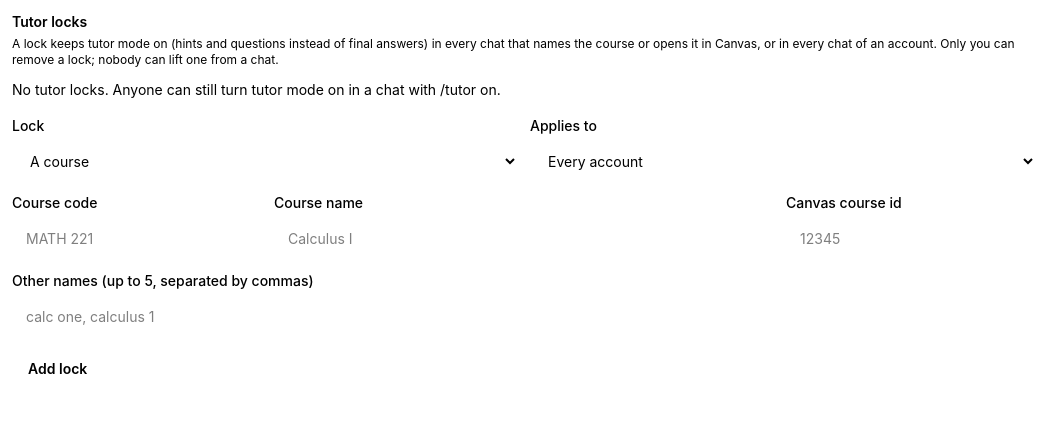
Scenario: TutorLocks › shows the server's reason when a lock is refused, and keeps what was typed
This screenshot has width=1048, height=423.
Expected: the text "No tutor locks" is shown, [12, 81, 501, 98]
Type "math" into the field labelled "Course code".
click(137, 239); type("math")  # box [12, 219, 262, 259]
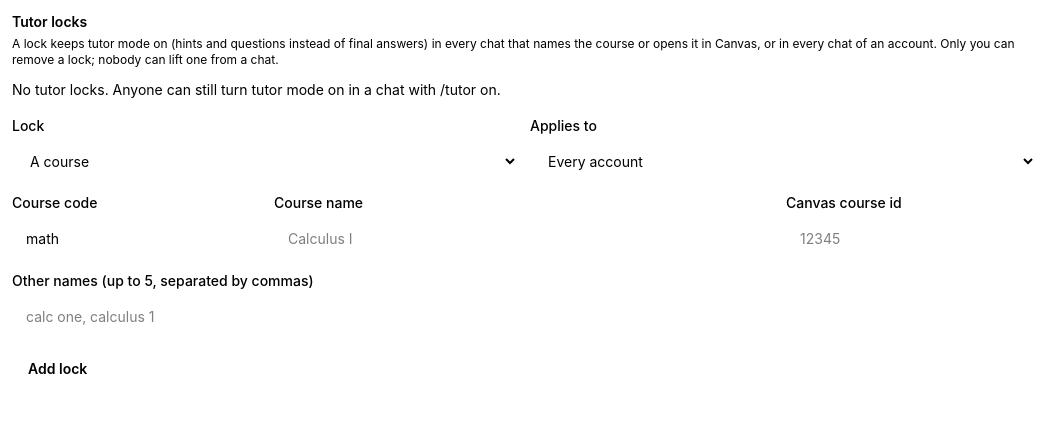
Click the button "Add lock".
click(58, 369)  # box [12, 349, 103, 389]
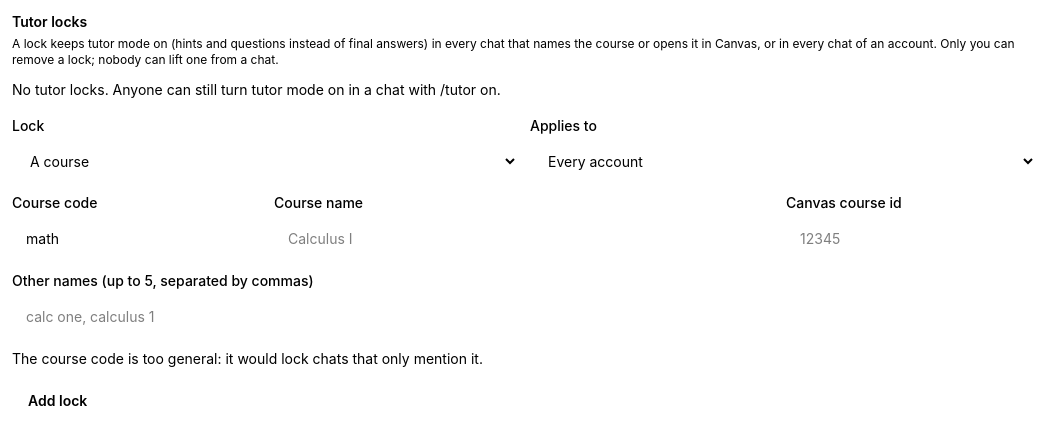
Result: the message shows "too general" at [12, 350, 483, 367]
